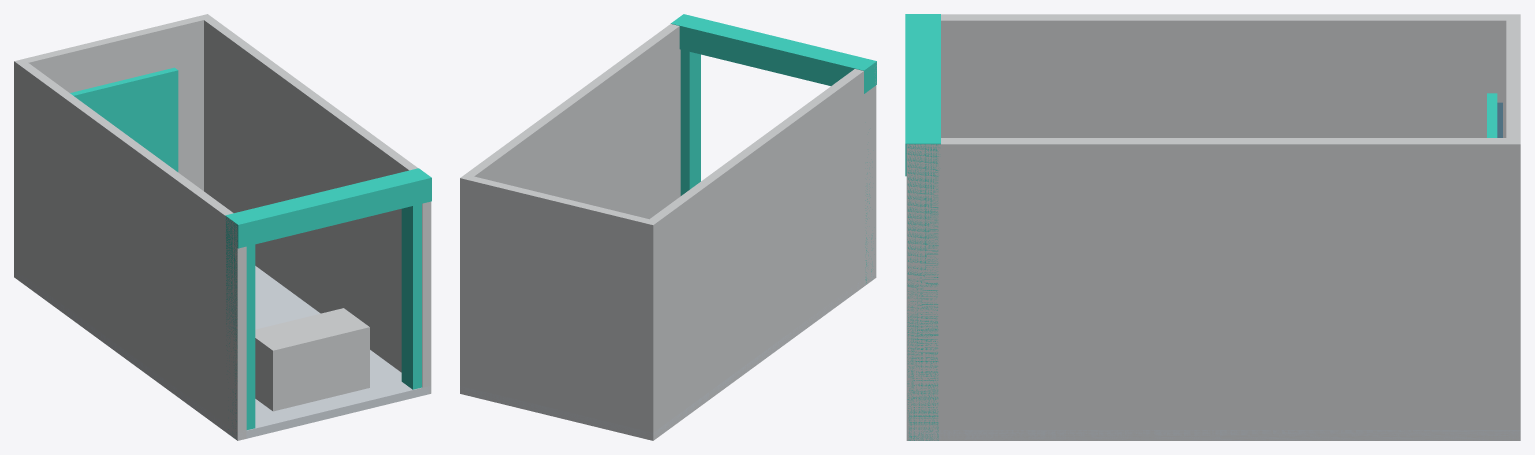
3 views of the same model, side by side, from view 1: azimuth 30°, elevation 25°; view 2: azimuth 150°, elevation 25°; view 3: azimuth 270°, elevation 25° (orthographic). The views are drawn at different scales.
Parts seen in each view (by area): view 1: Exhibition Booth Concept; view 2: Exhibition Booth Concept; view 3: Exhibition Booth Concept.
Part boxes in pixels (x1,y1,x2,y2): Exhibition Booth Concept: (14, 14, 431, 440); Exhibition Booth Concept: (460, 14, 876, 440); Exhibition Booth Concept: (905, 14, 1520, 440).
Size of the model in its own units: 3 by 3.2 by 6.02.
